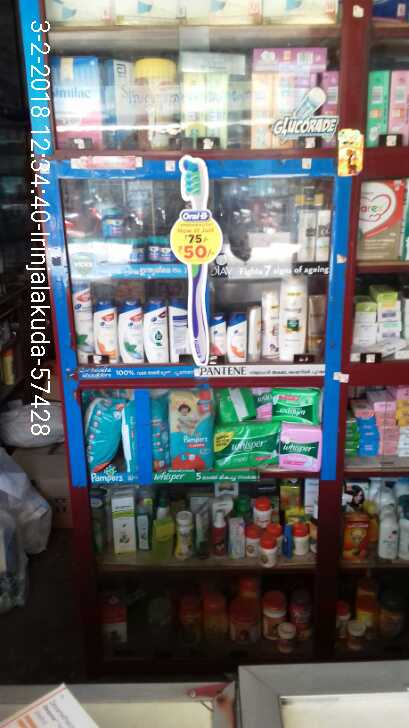vicks: (102, 204, 186, 268)
